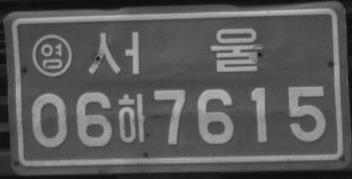0: (30, 92, 68, 149)
1: (243, 86, 278, 143)
5: (287, 84, 326, 143)
6: (196, 87, 234, 145), (75, 91, 113, 148)
7: (153, 87, 186, 145)
서울_D: (87, 26, 263, 75)
영: (31, 33, 73, 77)
하: (117, 93, 147, 143)
